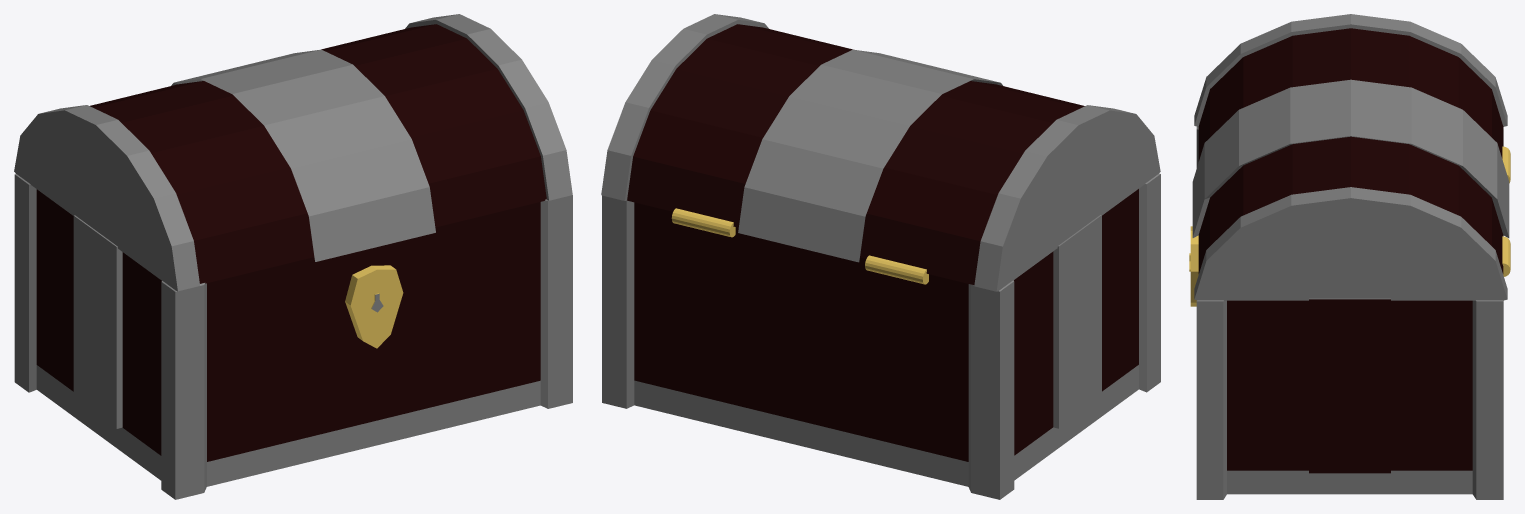
Rendered from SM_TreasureChest.fbx.
3 views of the same model, side by side, from view 1: azimuth 30°, elevation 25°; view 2: azimuth 150°, elevation 25°; view 3: azimuth 270°, elevation 25° (orthographic). The views are drawn at different scales.
Parts seen in each view (by area): view 1: Chest; view 2: Chest; view 3: Chest.
Part boxes in pixels (left/top/right/bottom): Chest: left=14, top=14, right=572, bottom=499; Chest: left=601, top=14, right=1160, bottom=499; Chest: left=1189, top=14, right=1510, bottom=499.
Size of the model in its own units: 103 by 78.12 by 75.43.
